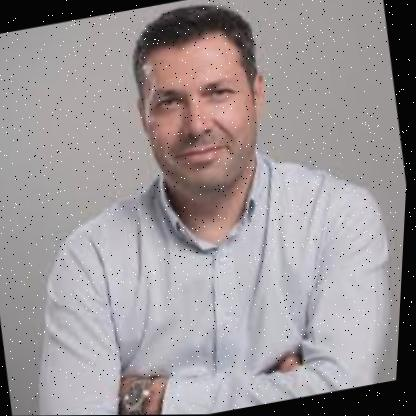person: (114, 0, 289, 220)
